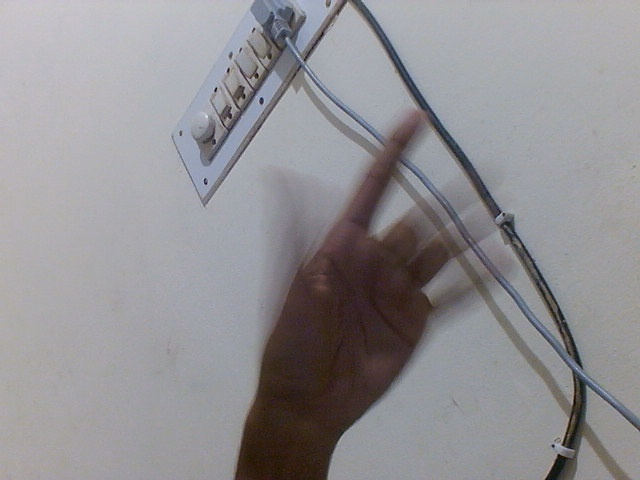hand: (257, 105, 523, 453)
